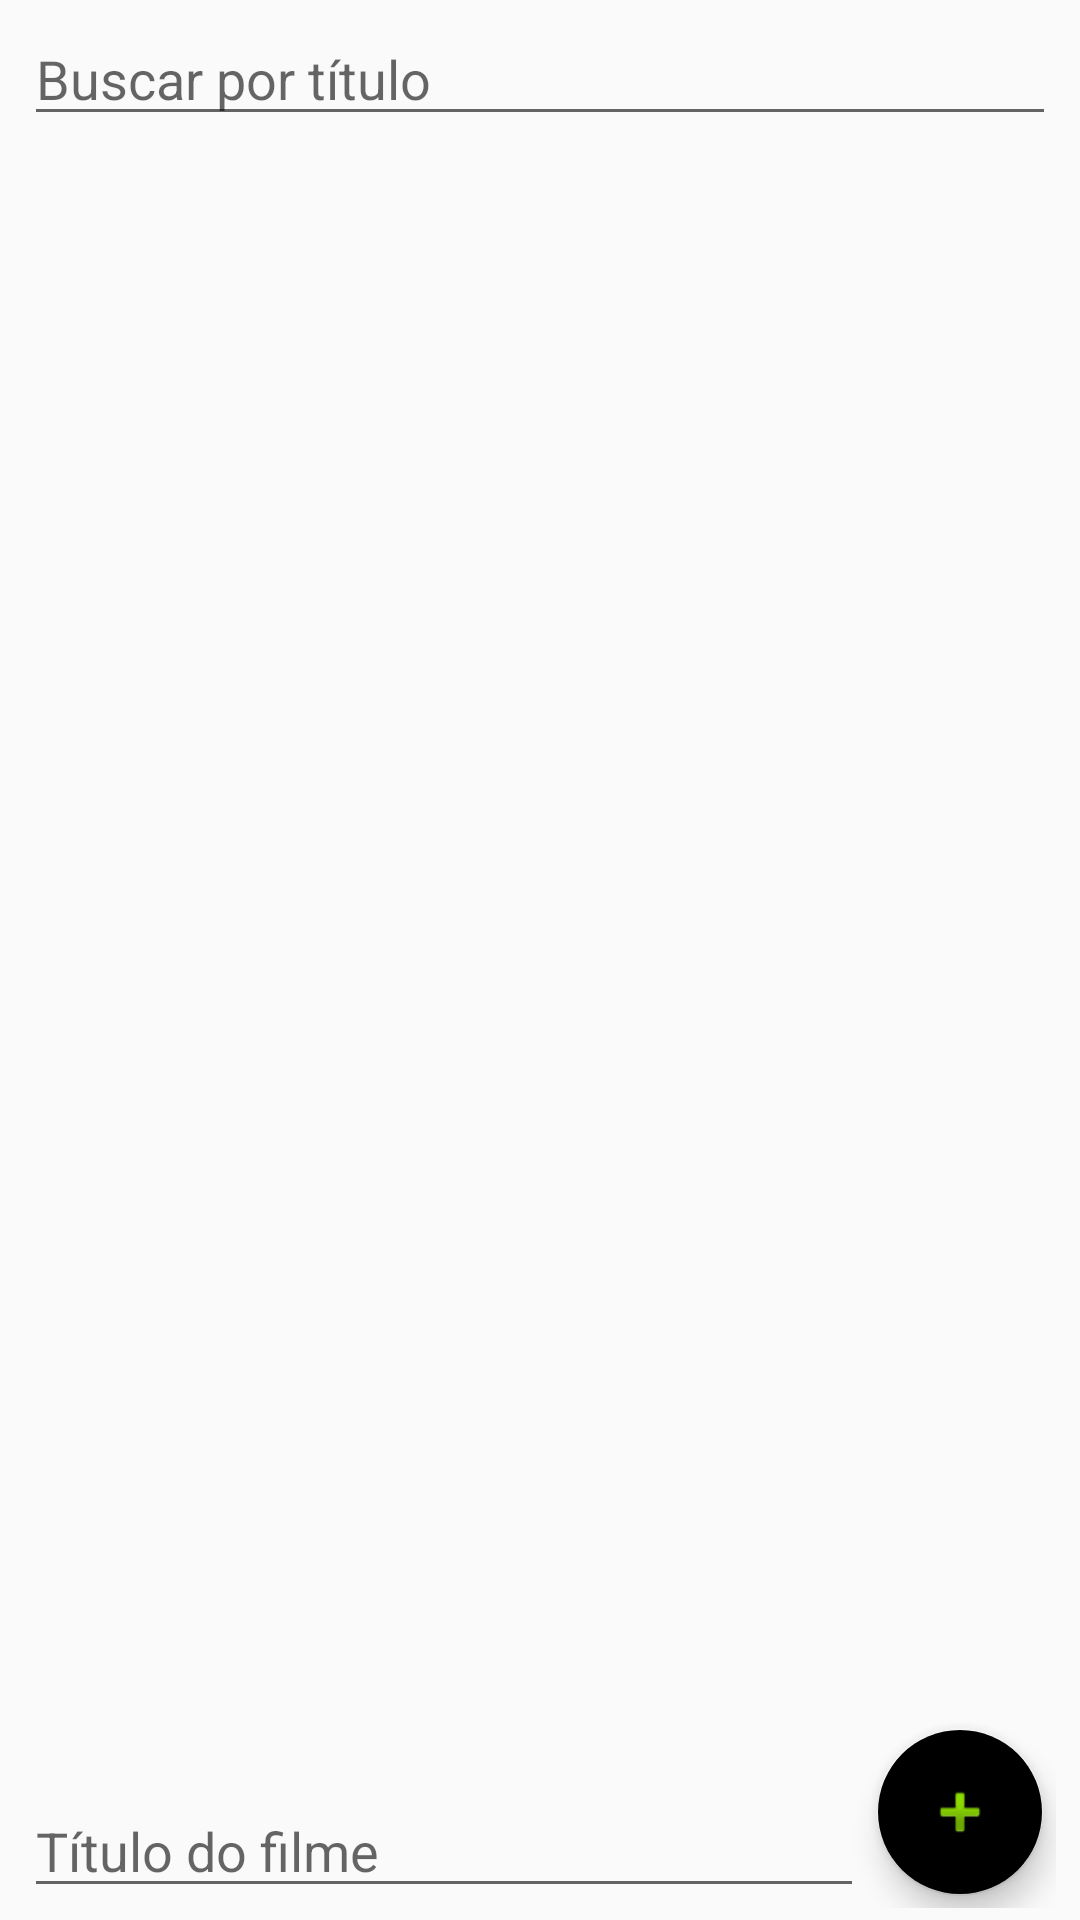

Where to tap for icons on this 1080 x 1920 app screen, as point (x, y):
add: point (961, 1813)
